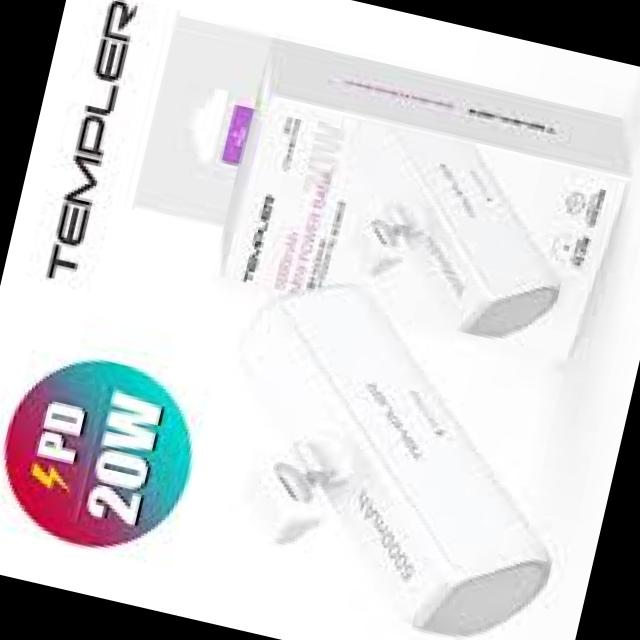portable-charger: (177, 264, 599, 640), (334, 122, 588, 354)
